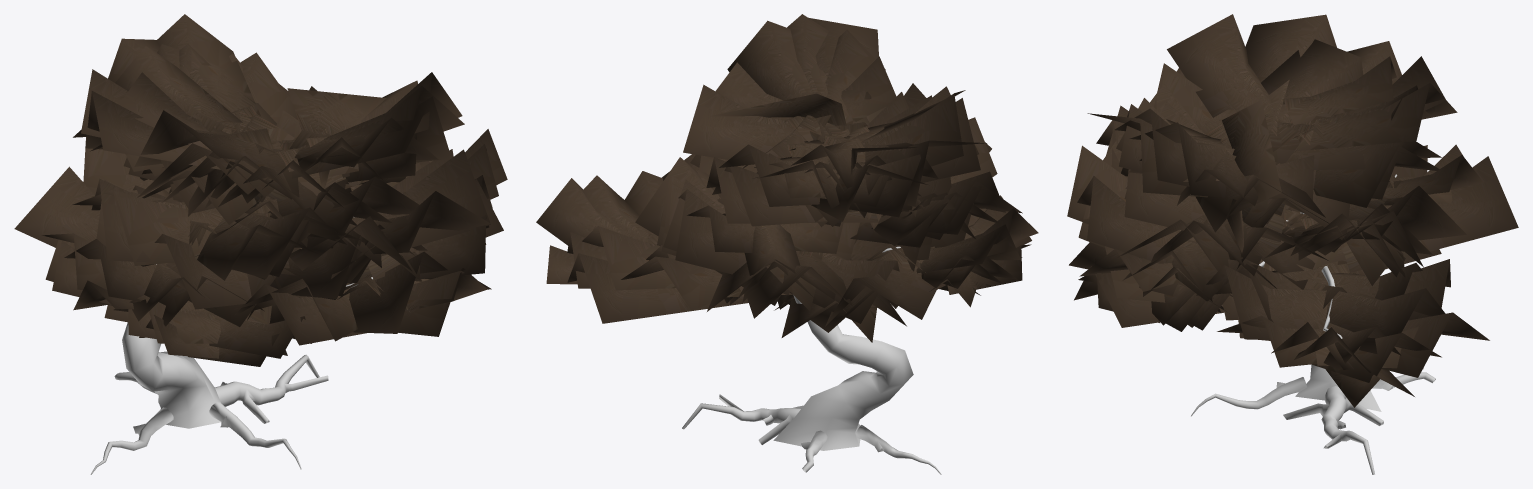
Rendered from blossom_tree_W_LOD2.fbx.
The picture shows the model from 3 angles, left to right: view 1: azimuth 30°, elevation 25°; view 2: azimuth 150°, elevation 25°; view 3: azimuth 270°, elevation 25°; orthographic projection. The views are drawn at different scales.
Parts seen in each view (by area): view 1: Cherry_blossom_LOD2.001; view 2: Cherry_blossom_LOD2.001; view 3: Cherry_blossom_LOD2.001.
Boxes of the visible parts, x1,y1,x2,y2 form: Cherry_blossom_LOD2.001: [14, 14, 507, 474]; Cherry_blossom_LOD2.001: [536, 14, 1038, 474]; Cherry_blossom_LOD2.001: [1067, 14, 1518, 474].
Size of the model in its own units: 16.47 by 12.7 by 14.02.
